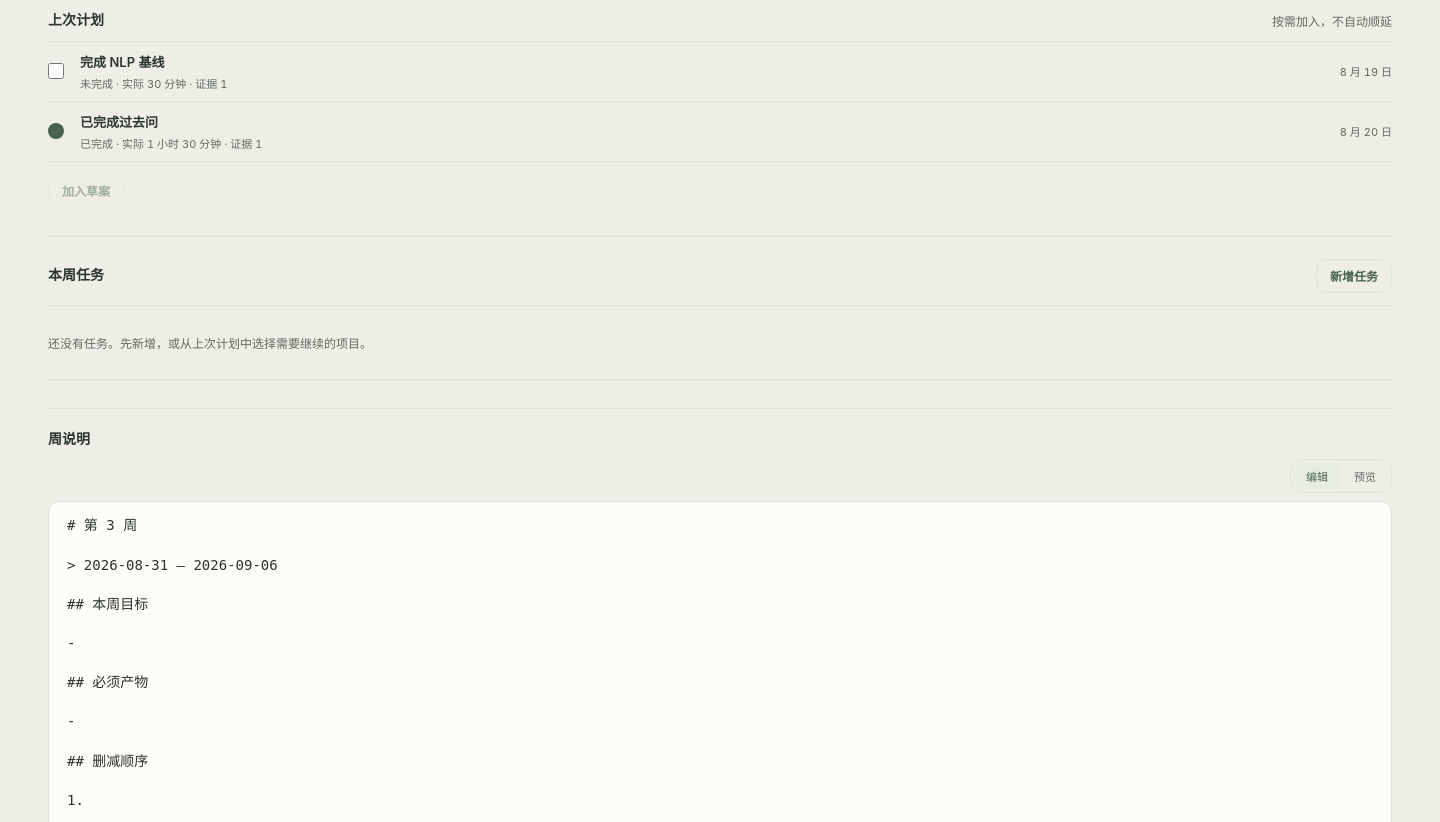
Test case: WeekWorkspace › shows the real week and keeps every previous task opt-in
The image size is (1440, 822).
(page scrolled)
Click the checkbox named "选择 完成 NLP 基线" at (56, 71), box [48,63,64,79]
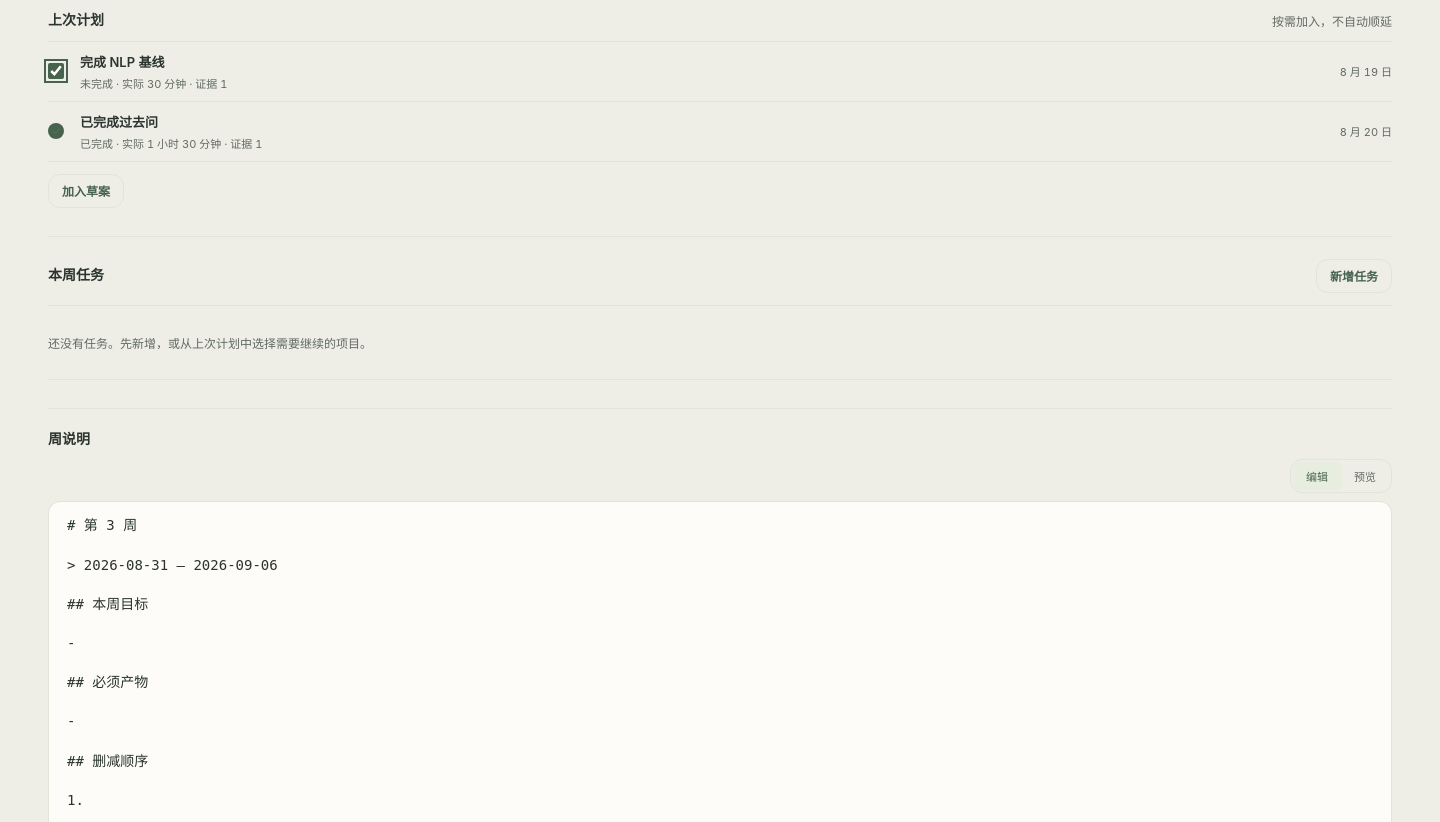
Click the button "加入草案" at (86, 191), box [48,174,124,208]
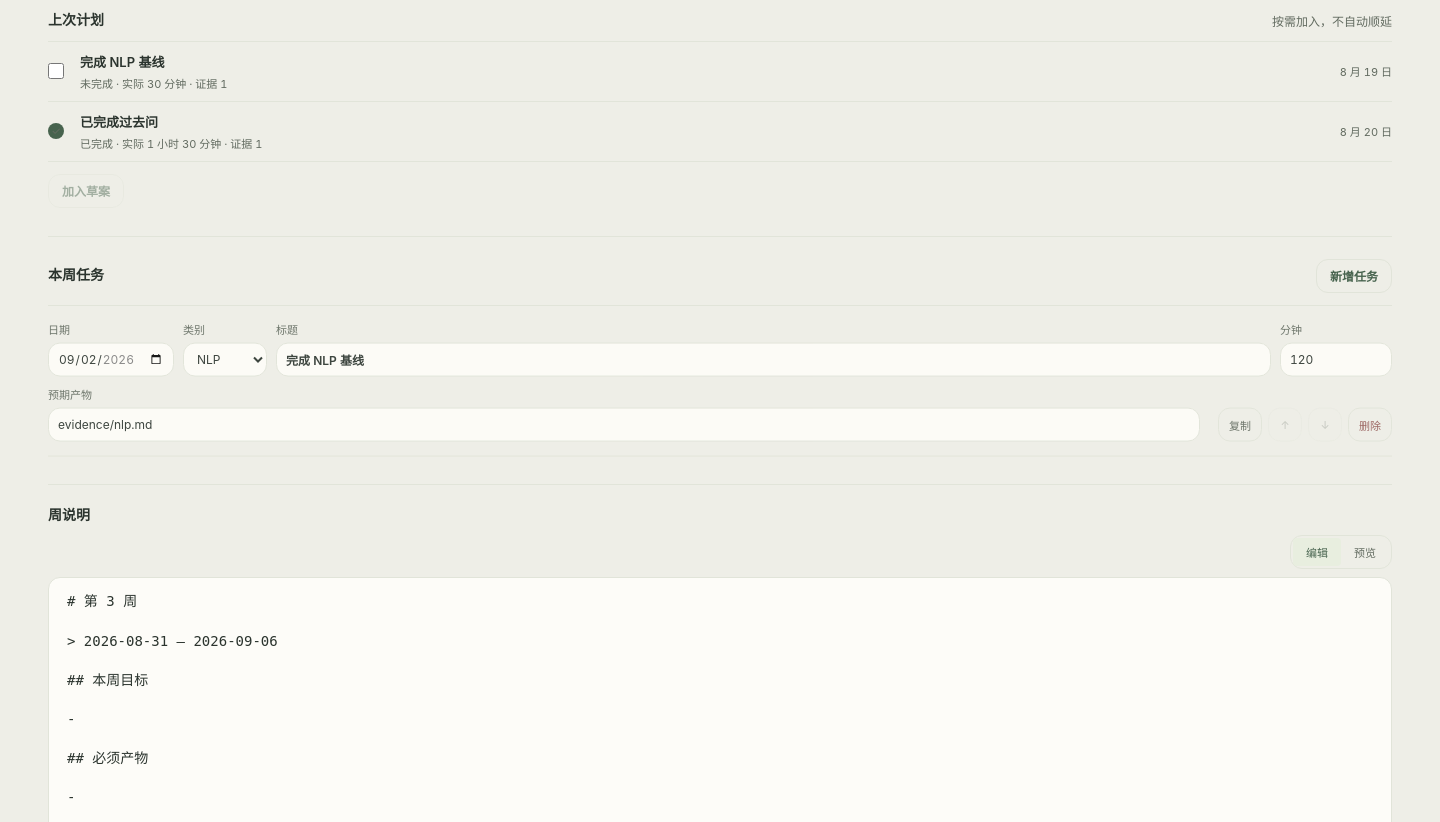
Expected: the field showing "完成 NLP 基线" is shown, [276,342,1271,376]
Expected: the date field showing "2026-09-02" is shown, [48,342,174,376]
